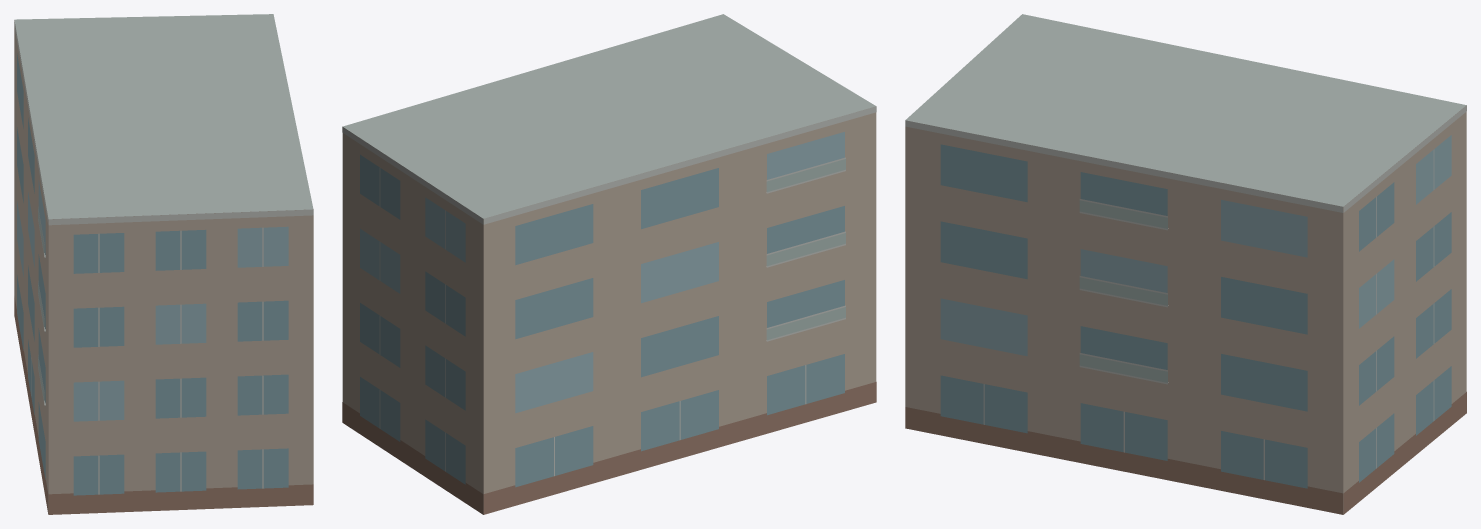
File: survey-upis-32969415.glb
3 renders of one model, left to right at view 1: azimuth 30°, elevation 25°; view 2: azimuth 150°, elevation 25°; view 3: azimuth 270°, elevation 25°, orthographic. The views are drawn at different scales.
Visible parts, largest first — view 1: survey-upis-32969415.tmp; view 2: survey-upis-32969415.tmp; view 3: survey-upis-32969415.tmp.
Boxes of the visible parts, x1,y1,x2,y2 form: survey-upis-32969415.tmp: [14, 14, 313, 514]; survey-upis-32969415.tmp: [342, 14, 876, 514]; survey-upis-32969415.tmp: [905, 14, 1466, 514].
Size of the model in its own units: 16.11 by 12 by 19.83.
